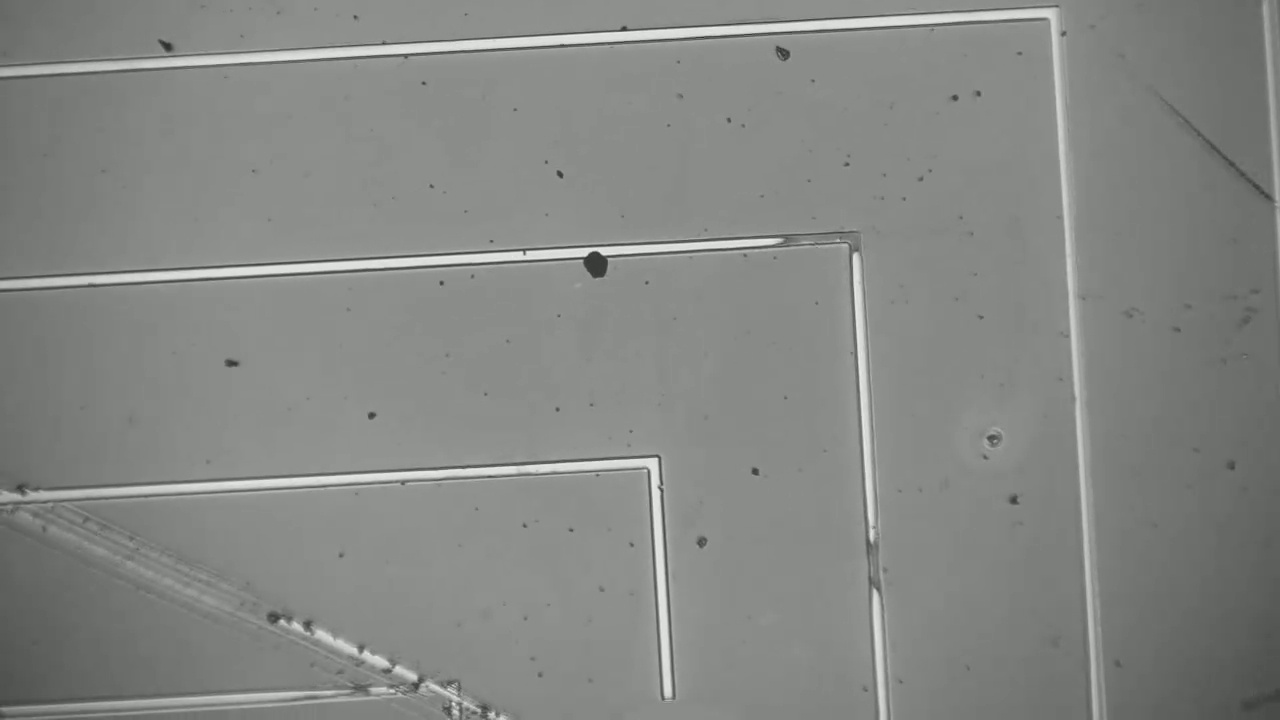edge_bite: (638, 479, 670, 498)
gray_line: (848, 517, 899, 612), (764, 226, 873, 255), (841, 221, 868, 265)
scratch: (6, 495, 500, 712), (1128, 71, 1273, 197)
stains_enbedded: (573, 235, 614, 286)
